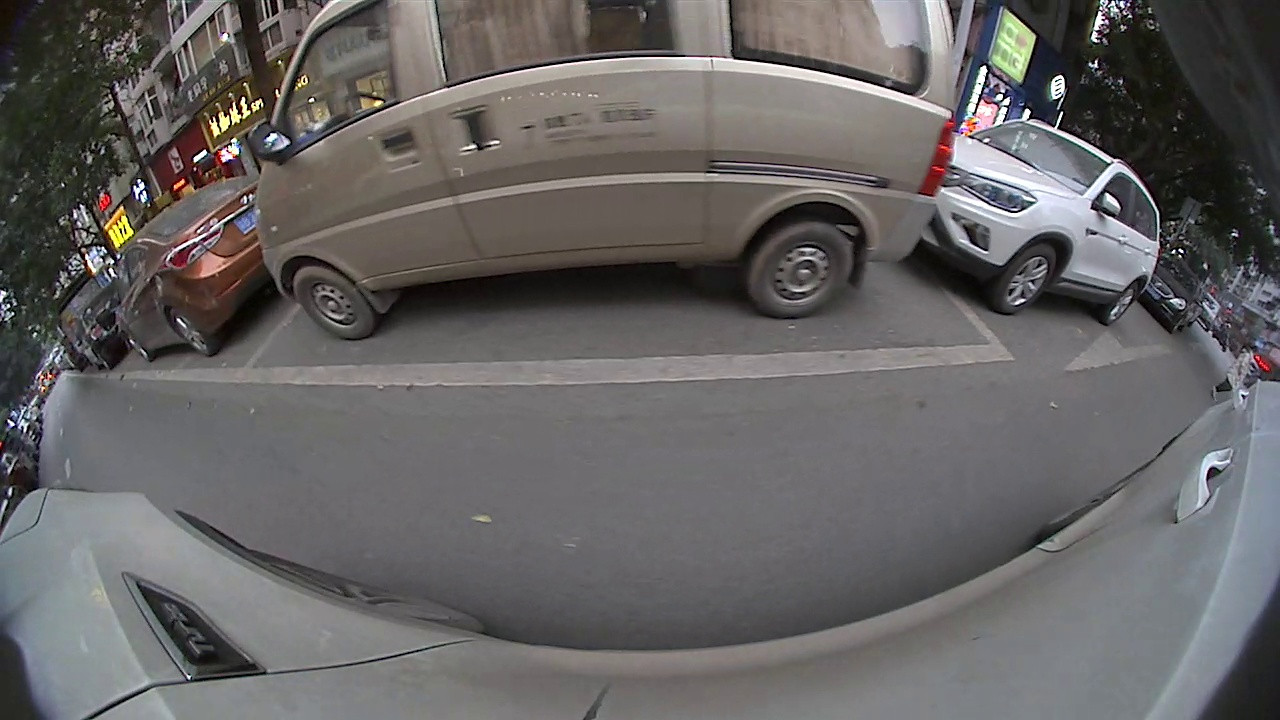car: (663, 63, 1128, 387), (1116, 258, 1251, 479), (178, 128, 322, 242), (0, 307, 58, 404)
front: (1004, 314, 1085, 384), (210, 203, 235, 241), (615, 104, 636, 142)
rear: (714, 157, 791, 230), (1150, 424, 1209, 463), (184, 209, 205, 239)
rider: (587, 62, 640, 143), (525, 72, 545, 108)
